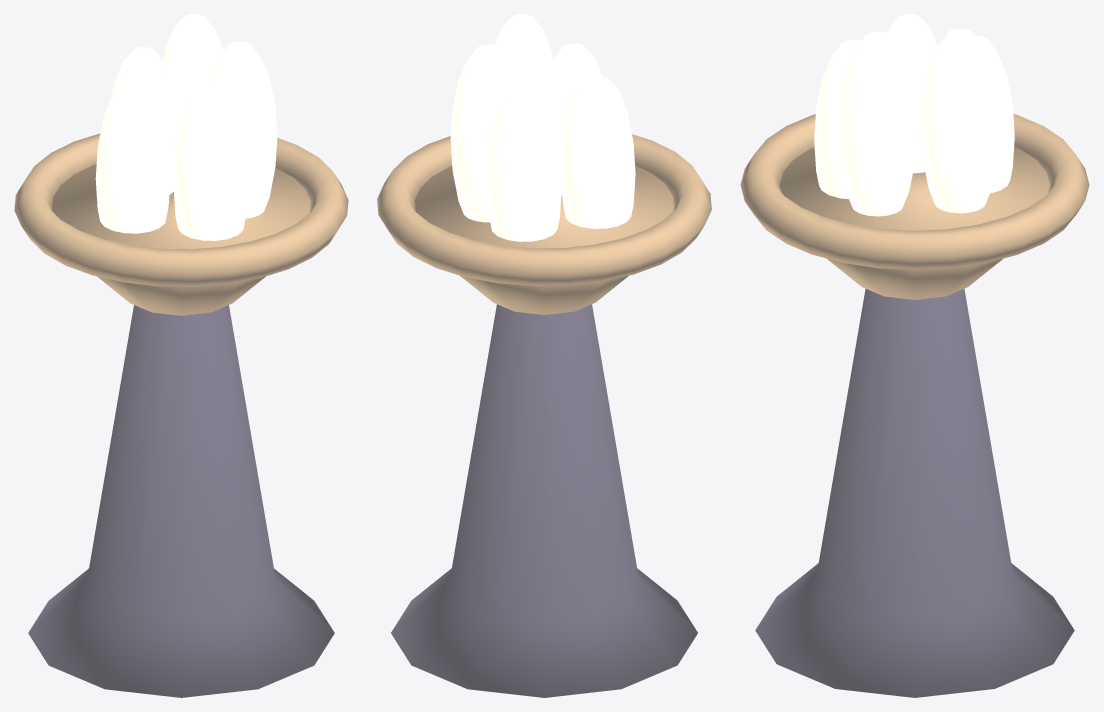
File: castle_detail_brazier_cursed.glb
The picture shows the model from 3 angles, left to right: view 1: azimuth 30°, elevation 25°; view 2: azimuth 150°, elevation 25°; view 3: azimuth 270°, elevation 25°; orthographic projection. The views are drawn at different scales.
Parts seen in each view (by area): view 1: castle_detail_brazier_cursed_surface; view 2: castle_detail_brazier_cursed_surface; view 3: castle_detail_brazier_cursed_surface.
Part boxes in pixels (left/top/right/bottom): castle_detail_brazier_cursed_surface: left=14, top=14, right=348, bottom=697; castle_detail_brazier_cursed_surface: left=377, top=14, right=711, bottom=697; castle_detail_brazier_cursed_surface: left=740, top=14, right=1089, bottom=697.
Bounding box in the file's own units: 1.42 × 2.78 × 1.42.
